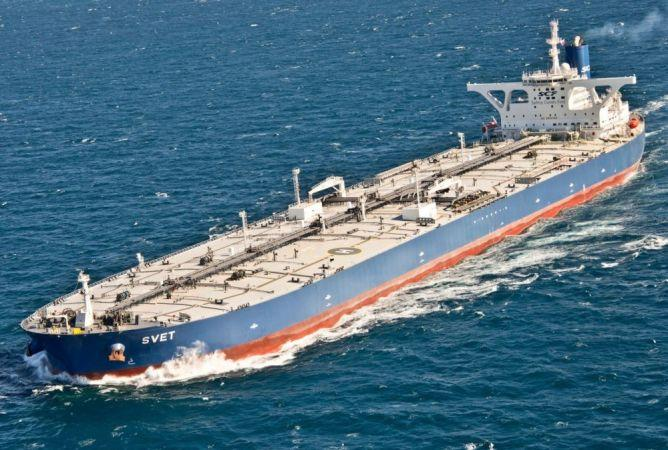Cargoship: (28, 21, 646, 379)
